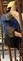boots: (12, 53, 23, 61), (12, 55, 23, 61)
hard-hat: (5, 0, 14, 11)
ppe-suit: (12, 30, 23, 61)
